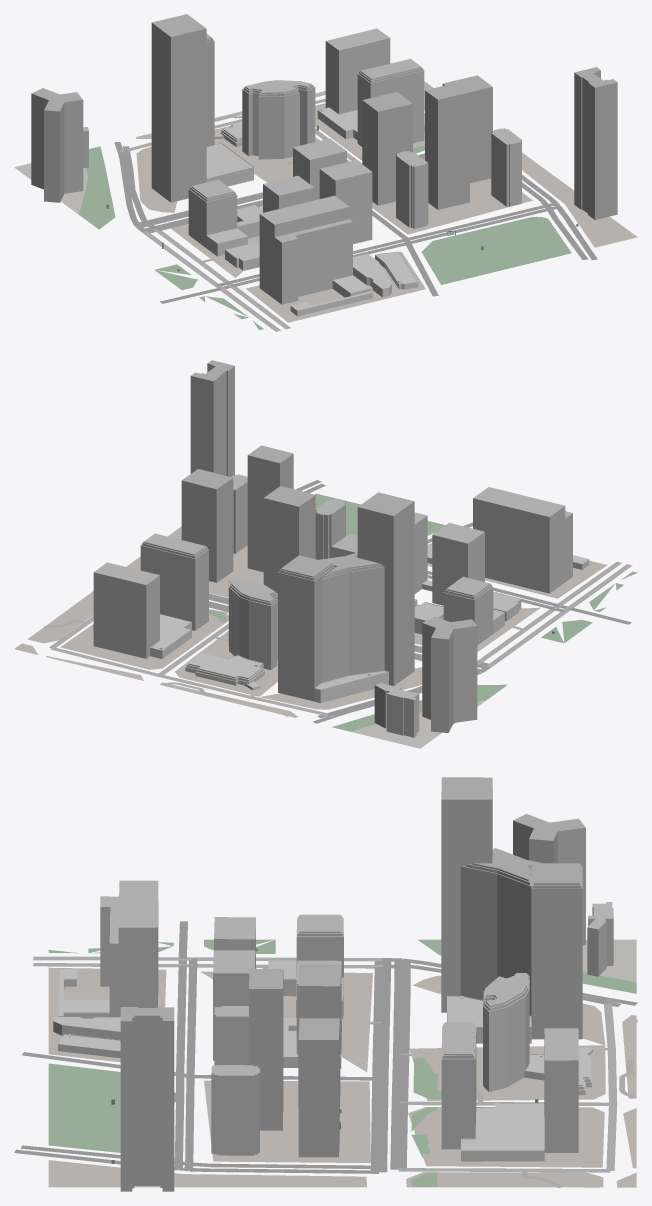
The picture shows the model from 3 angles, top to bottom: view 1: azimuth 30°, elevation 25°; view 2: azimuth 150°, elevation 25°; view 3: azimuth 270°, elevation 25°; orthographic projection. The views are drawn at different scales.
Size of the model in its own units: 546 by 200 by 531.
